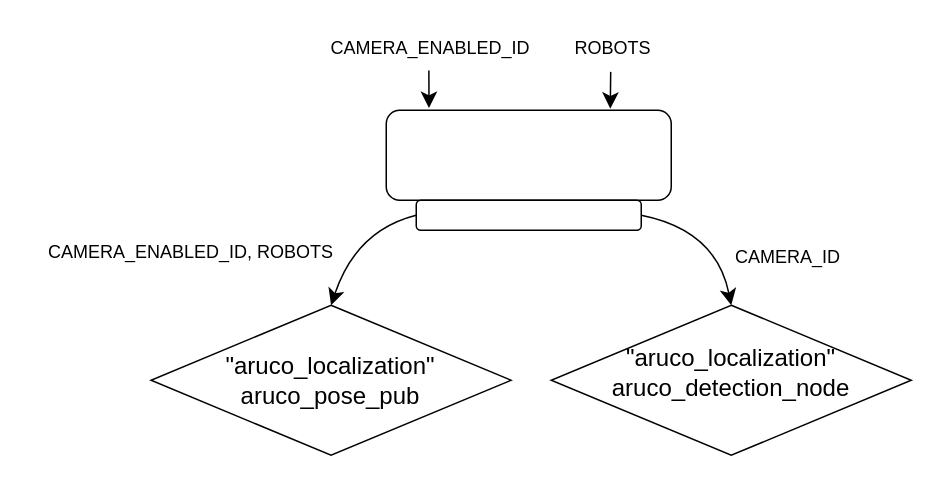
This 938x482 diagram has some shape labels left out. Here are the shapes that lost their labels. From the top down, the centre of each, then its label:
point 528,154: "aruco_localization" multi_detection.launch.py
point 528,214: for each camera_id
